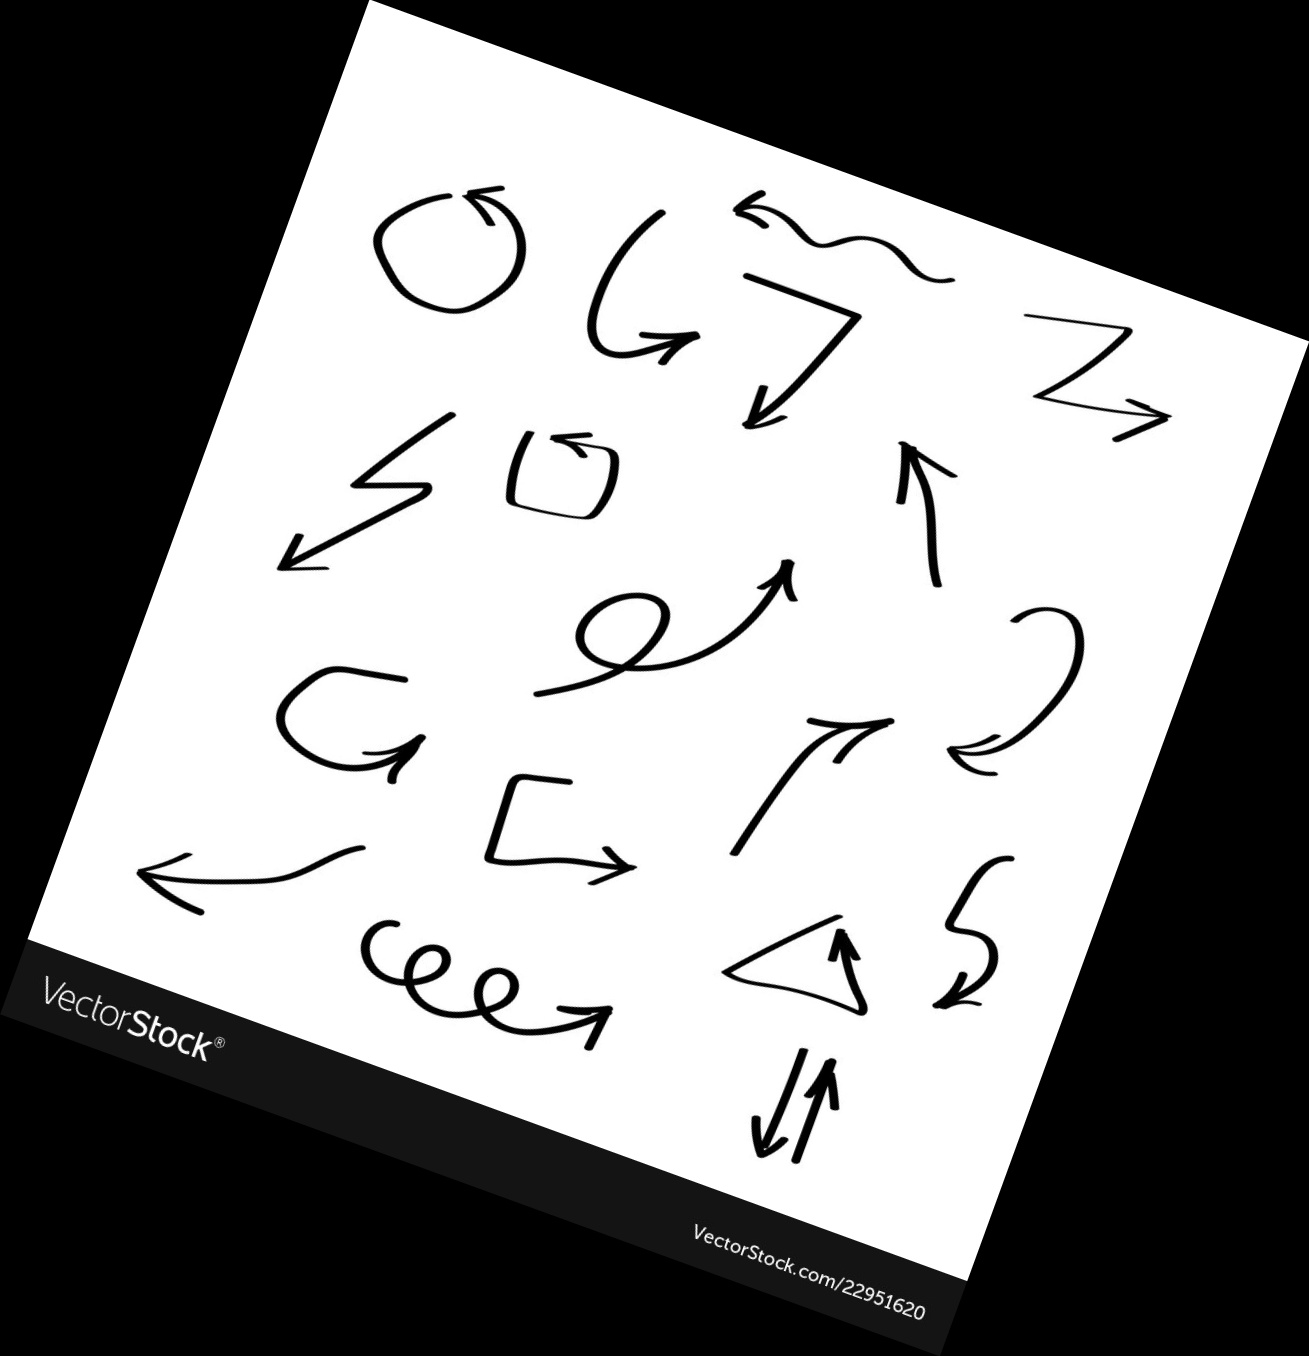arrow: (127, 837, 274, 923), (767, 709, 896, 787), (884, 433, 963, 559), (714, 555, 802, 659), (736, 345, 828, 433), (516, 988, 628, 1058), (270, 508, 384, 578), (946, 708, 1045, 785), (928, 941, 1014, 1025), (741, 1038, 790, 1176), (457, 176, 532, 258), (1085, 386, 1175, 454), (338, 726, 431, 791), (604, 323, 711, 379), (549, 837, 641, 900), (806, 1048, 850, 1173), (728, 180, 803, 248), (823, 927, 882, 1000), (549, 418, 625, 466)
